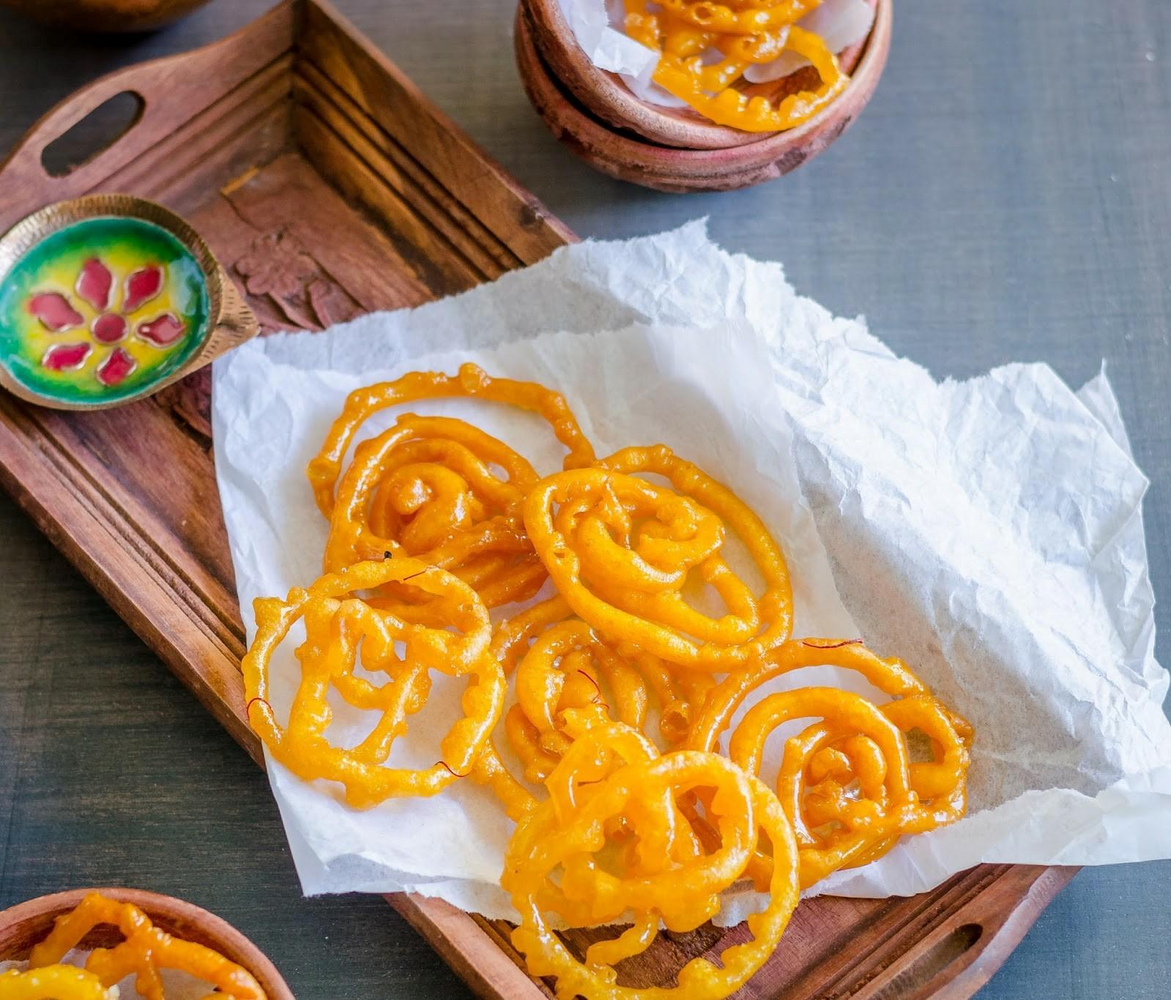Jalebi: (235, 354, 978, 1000)
